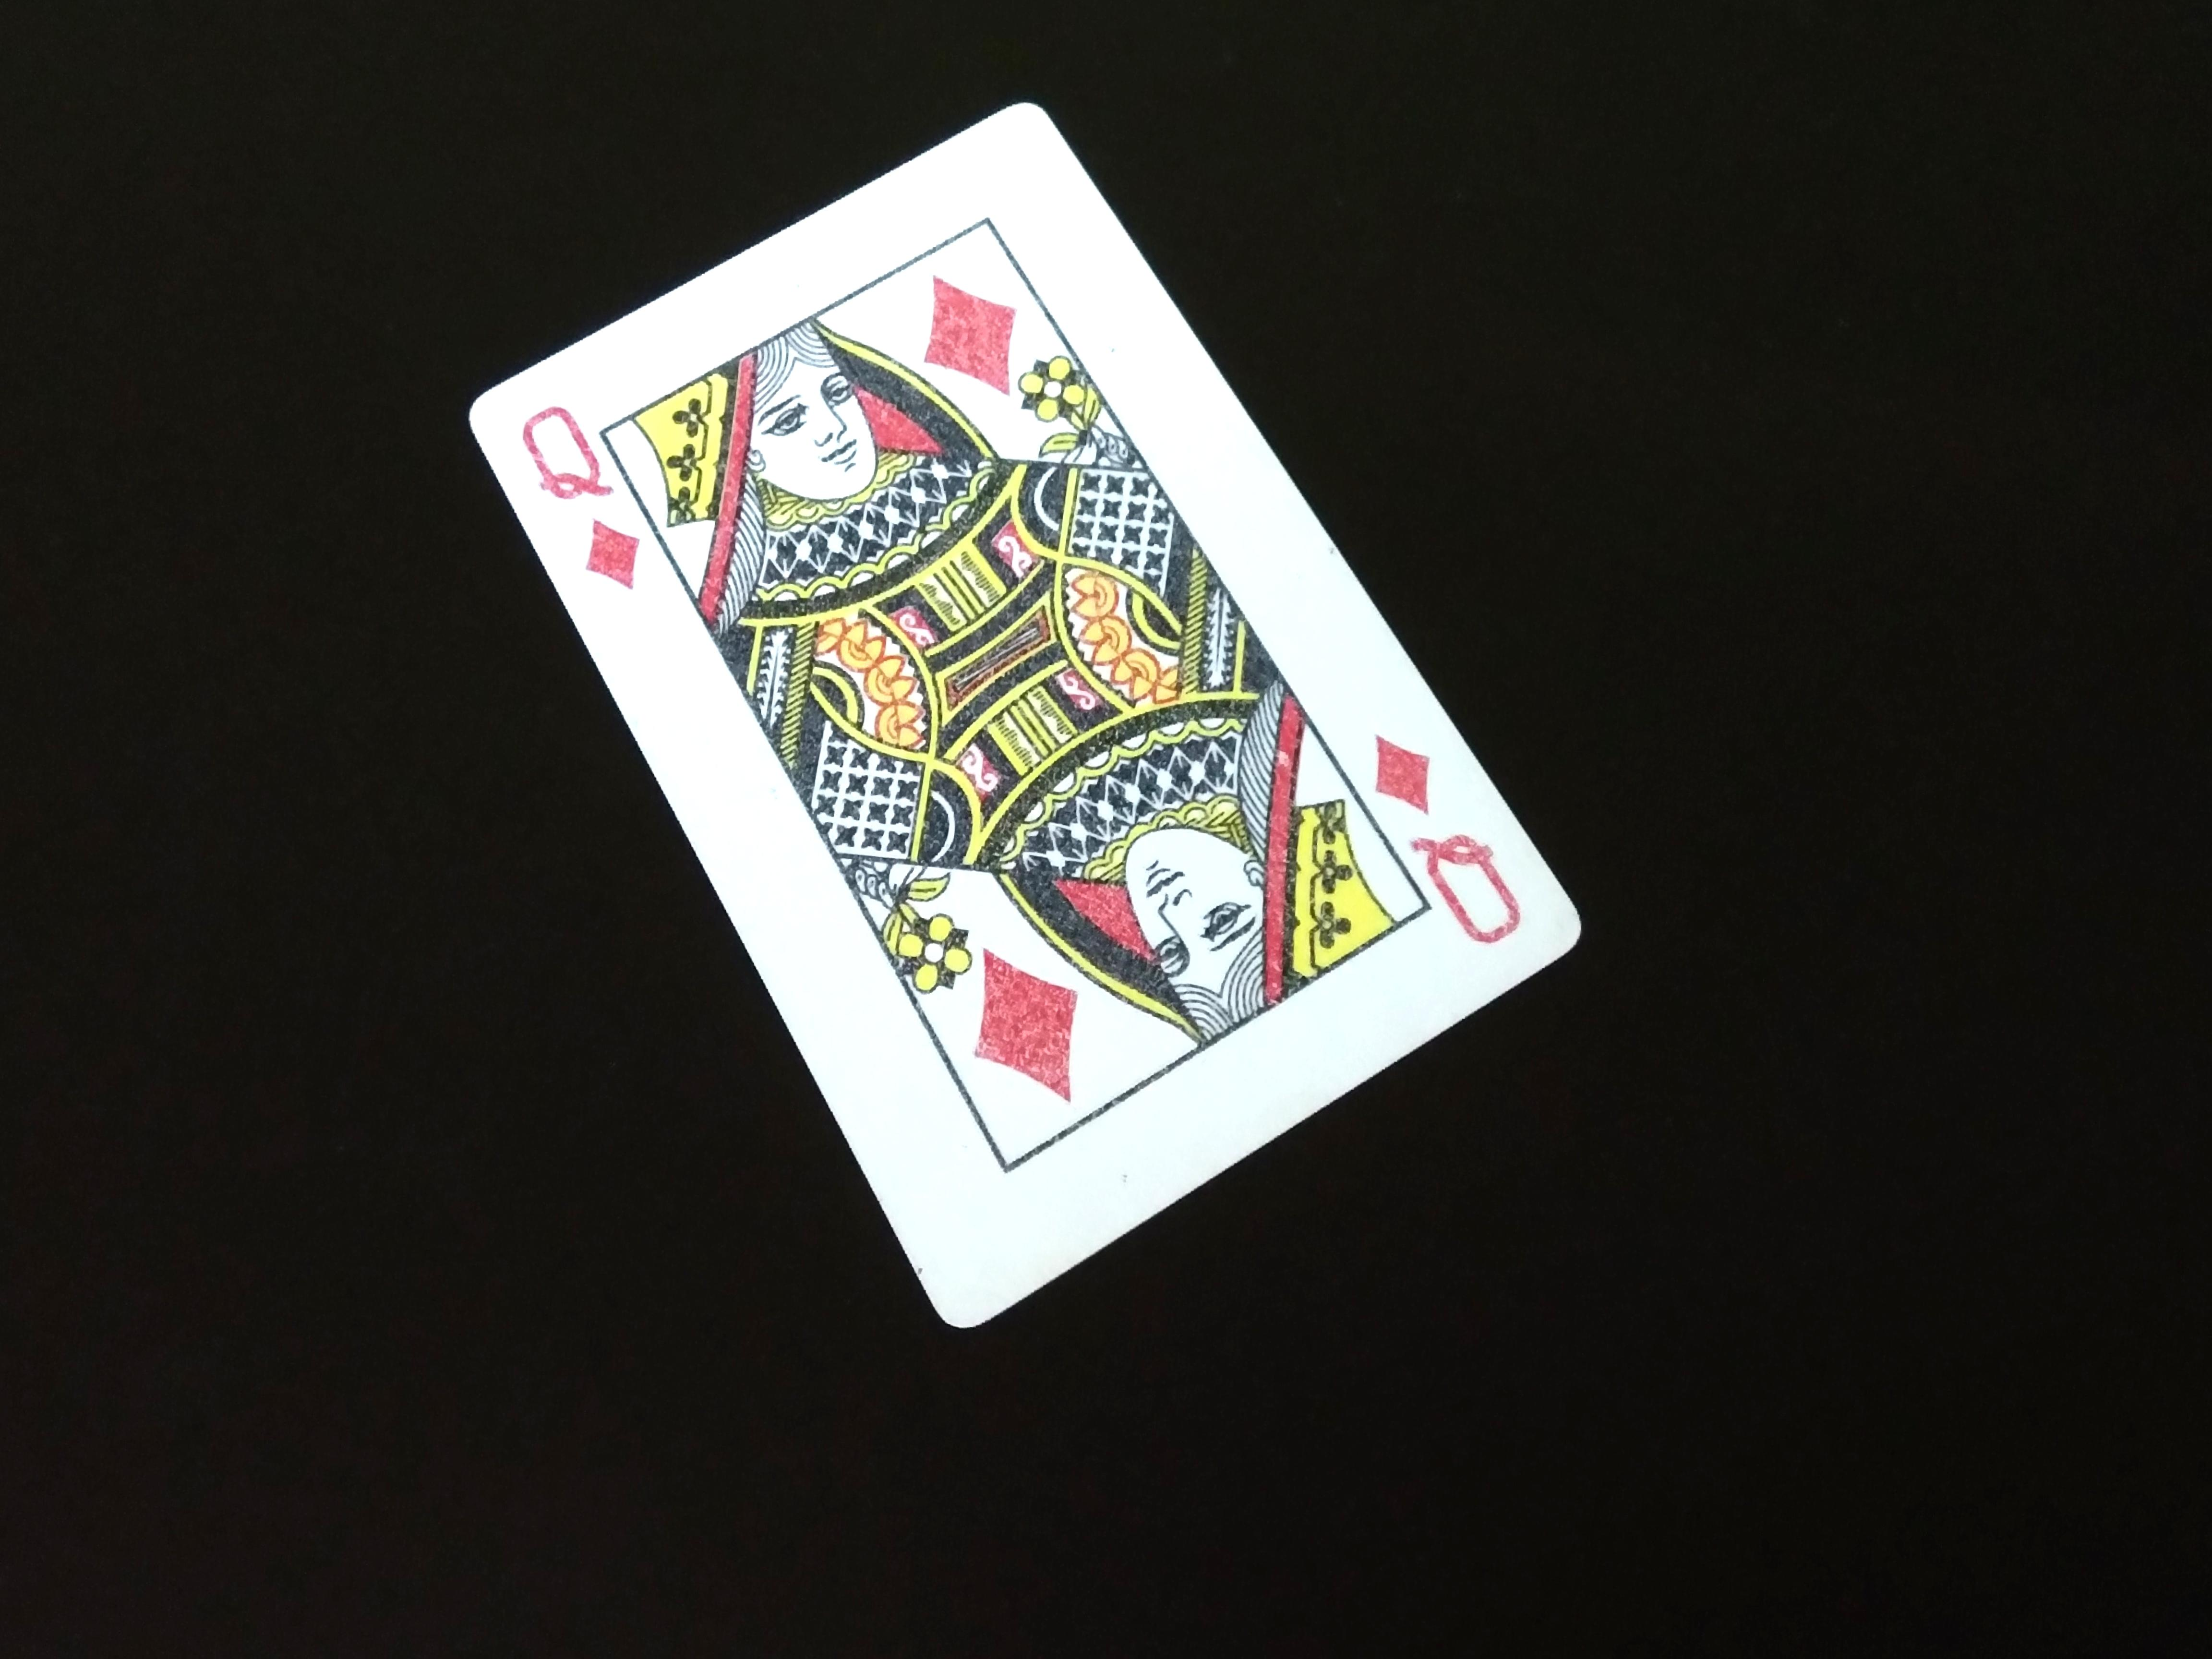QD: (507, 392, 651, 601)
